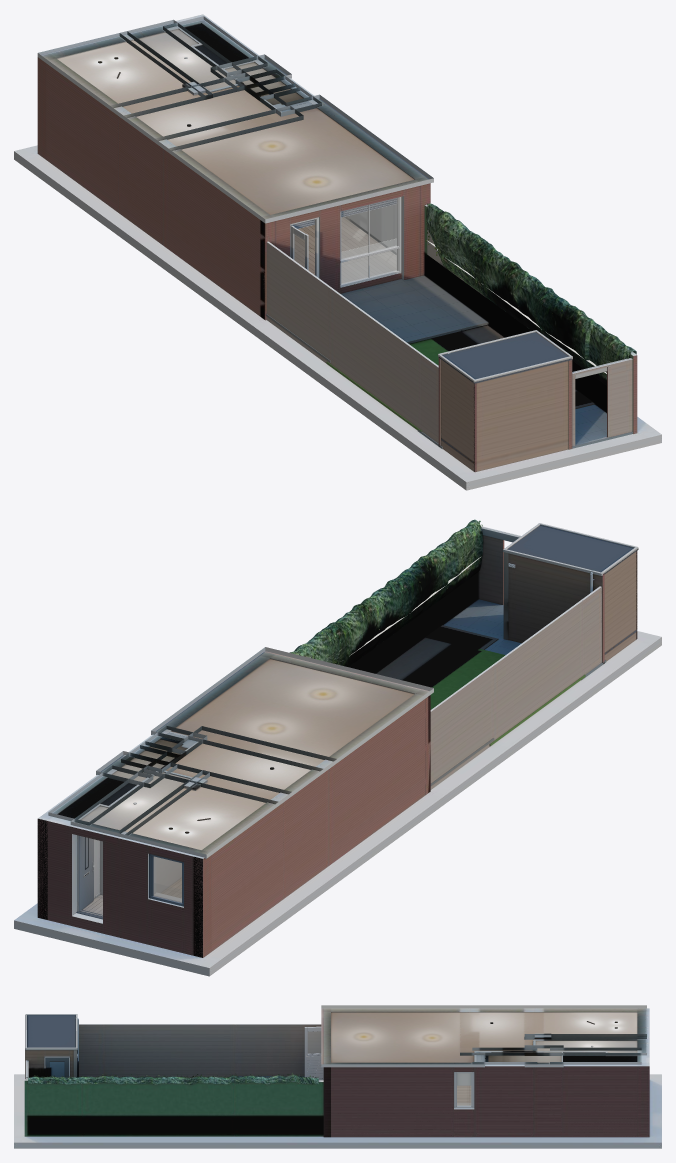
File: ground-walls.glb
3 views of the same model, one above another, from view 1: azimuth 30°, elevation 25°; view 2: azimuth 150°, elevation 25°; view 3: azimuth 270°, elevation 25° (orthographic). The views are drawn at different scales.
Parts seen in each view (by area): view 1: realism__ceiling_Living room_kept, shell__plinth, wall__W-west-living_0_0, wall__W-west-kitchen_0_0, wall__W-back-fence-shed_0_0, realism__ceiling_Dining_kept, realism__ceiling_Kitchen_kept, Floor__patio, border__ivy_border, LowWall__wall__W-west-living_0_0, LowWall__wall__W-back-fence-shed_0_0, LowWall__wall__W-fence-west-lawn_0_0 (+37 smaller); view 2: realism__ceiling_Living room_kept, shell__plinth, wall__W-west-kitchen_0_0, wall__W-west-living_0_0, realism__ceiling_Kitchen_kept, realism__ceiling_Dining_kept, border__ivy_border, wall__W-fence-west-lawn_0_0, LowWall__wall__W-west-living_0_0, wall__W-shed-north_0_0, LowWall__wall__W-fence-west-lawn_0_0, back_corner__coping_e (+43 smaller); view 3: shell__plinth, realism__ceiling_Living room_kept, wall__W-east-living_0_3, LowWall__wall__W-garden-east-border_0_0, wall__W-garden-east-border_0_0, wall__W-fence-west-lawn_0_0, wall__W-east-wc_0_0, wall__W-garden-east-patio_0_0, wall__W-east-front_0_0, LowWall__wall__W-east-living_0_3, LowWall__wall__W-fence-west-lawn_0_0, realism__ceiling_Dining_kept (+32 smaller).
Part boxes in pixels (x1,y1,x2,y2): realism__ceiling_Living room_kept: (155, 94, 433, 223); shell__plinth: (14, 145, 661, 490); wall__W-west-living_0_0: (163, 144, 275, 319); wall__W-west-kitchen_0_0: (37, 57, 127, 210); wall__W-back-fence-shed_0_0: (473, 361, 568, 471); realism__ceiling_Dining_kept: (110, 73, 303, 150); realism__ceiling_Kitchen_kept: (37, 31, 212, 117); Floor__patio: (266, 275, 488, 362); border__ivy_border: (478, 243, 596, 375); LowWall__wall__W-west-living_0_0: (163, 199, 266, 320); LowWall__wall__W-back-fence-shed_0_0: (474, 403, 568, 471); LowWall__wall__W-fence-west-lawn_0_0: (329, 319, 420, 429); realism__ceiling_Living room_kept: (151, 647, 433, 772); shell__plinth: (14, 631, 661, 976); wall__W-west-kitchen_0_0: (193, 797, 283, 953); wall__W-west-living_0_0: (319, 693, 425, 865); realism__ceiling_Kitchen_kept: (117, 770, 292, 858); realism__ceiling_Dining_kept: (143, 726, 337, 804); border__ivy_border: (330, 547, 448, 666); wall__W-fence-west-lawn_0_0: (490, 600, 582, 740); LowWall__wall__W-west-living_0_0: (328, 749, 425, 865); wall__W-shed-north_0_0: (508, 553, 604, 663); LowWall__wall__W-fence-west-lawn_0_0: (491, 632, 582, 742); back_corner__coping_e: (503, 523, 638, 575); shell__plinth: (14, 1074, 661, 1148); realism__ceiling_Living room_kept: (321, 1005, 484, 1067); wall__W-east-living_0_3: (331, 1062, 453, 1137); LowWall__wall__W-garden-east-border_0_0: (82, 1103, 234, 1136); wall__W-garden-east-border_0_0: (82, 1082, 234, 1136); wall__W-fence-west-lawn_0_0: (103, 1024, 234, 1077); wall__W-east-wc_0_0: (475, 1064, 533, 1137); wall__W-garden-east-patio_0_0: (234, 1080, 323, 1136); wall__W-east-front_0_0: (562, 1062, 649, 1137); LowWall__wall__W-east-living_0_3: (331, 1104, 453, 1137); LowWall__wall__W-fence-west-lawn_0_0: (103, 1047, 234, 1077); realism__ceiling_Dining_kept: (460, 1005, 543, 1055).
Bounding box in the file's own units: 5.84 × 3.17 × 23.41.
Materials: 28 (15 with a texture image).
